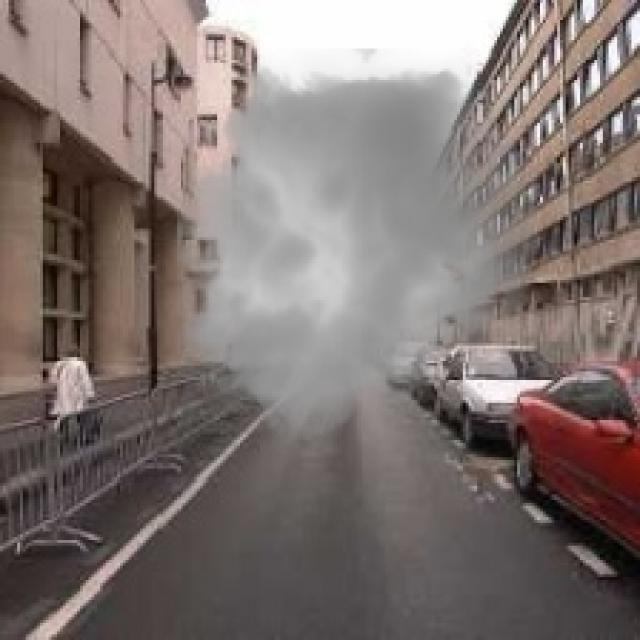Smoke: (160, 48, 549, 454)
